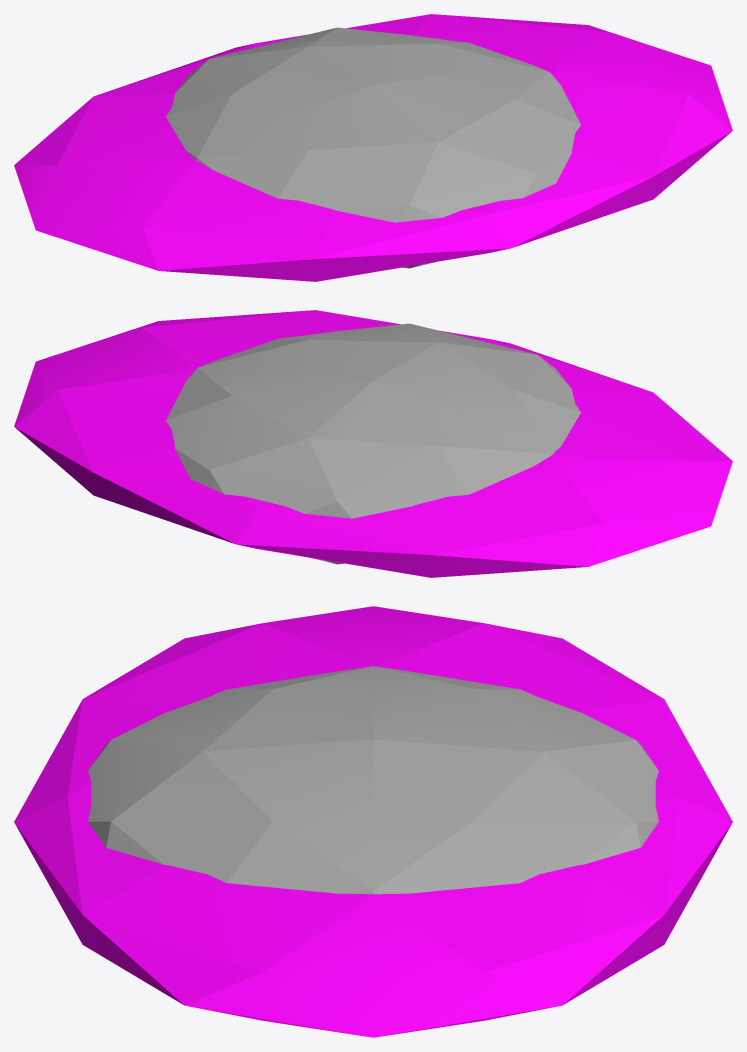
Rendered from Ricocheting Disc.fbx.
The picture shows the model from 3 angles, top to bottom: view 1: azimuth 30°, elevation 25°; view 2: azimuth 150°, elevation 25°; view 3: azimuth 270°, elevation 25°; orthographic projection. The views are drawn at different scales.
Parts seen in each view (by area): view 1: projectile; view 2: projectile; view 3: projectile.
Part boxes in pixels (x1,y1,x2,y2): projectile: (14, 14, 732, 281); projectile: (14, 310, 732, 577); projectile: (14, 606, 732, 1037).
Bounding box in the file's own units: 70.56 × 12.6 × 49.68.
